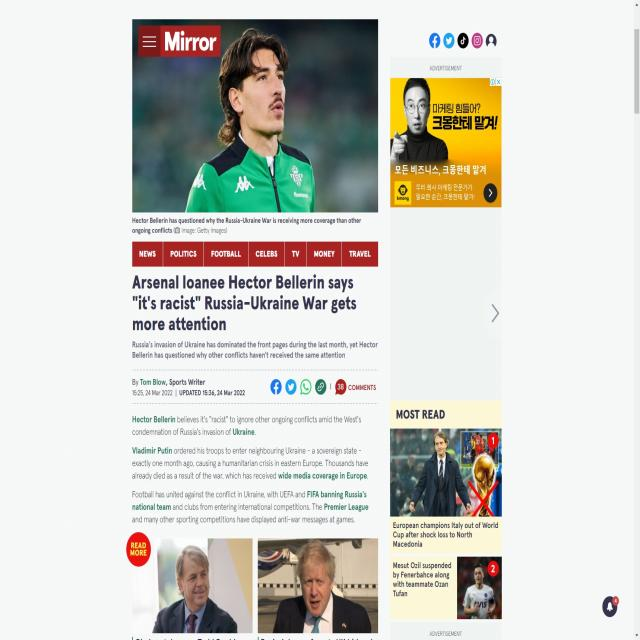menu-bar: (136, 20, 222, 56)
menu-panel: (130, 236, 379, 270)
